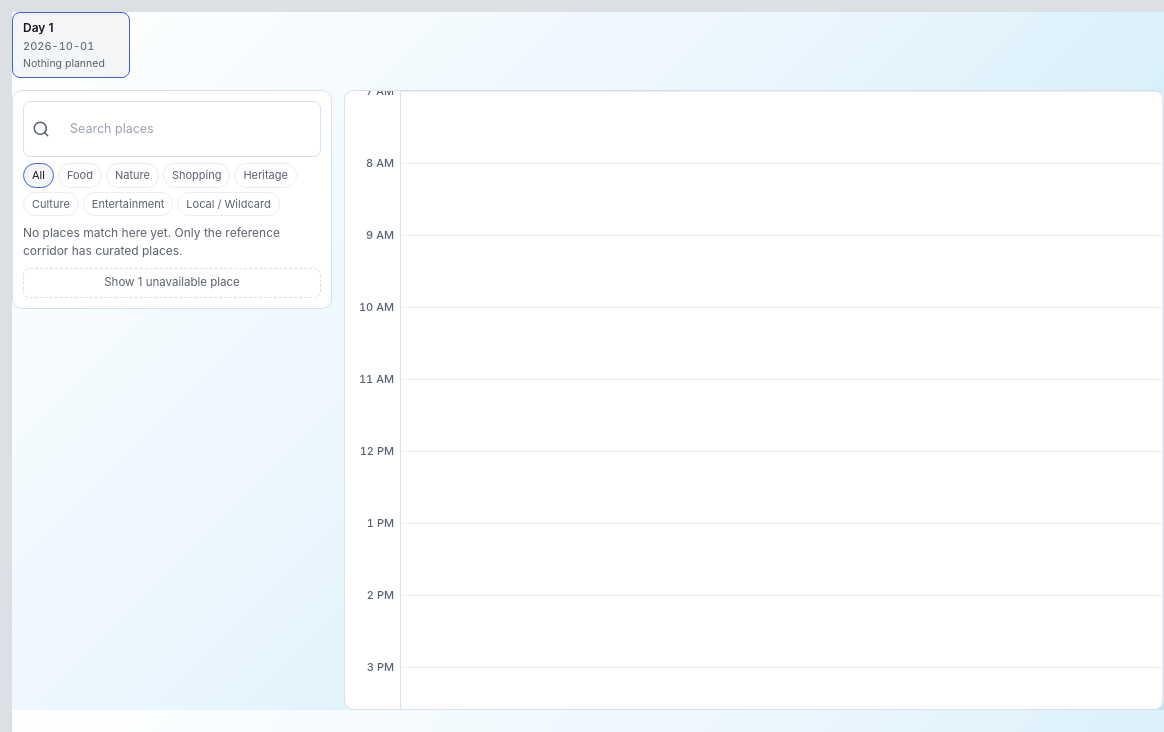
Test case: POI choice pool › hides gate-failed candidates behind an Unavailable disclosure and never makes them draggable
The image size is (1164, 732).
(page scrolled)
expect the text "Unknown Halal Diner" is not shown: met
Click the button "Show 1 unavailable place" at (172, 283), box x1=23 y1=268 x2=321 y2=298
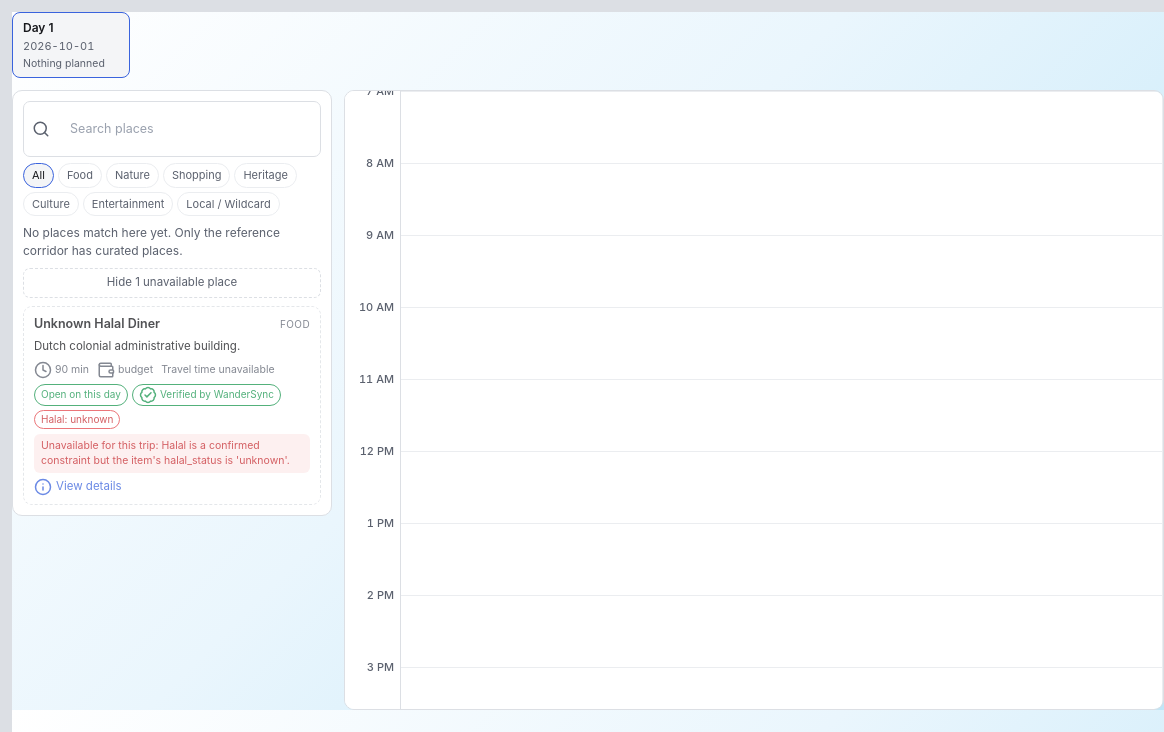
expect the text "Unavailable for this trip" is shown: met, box x1=41 y1=438 x2=161 y2=452
